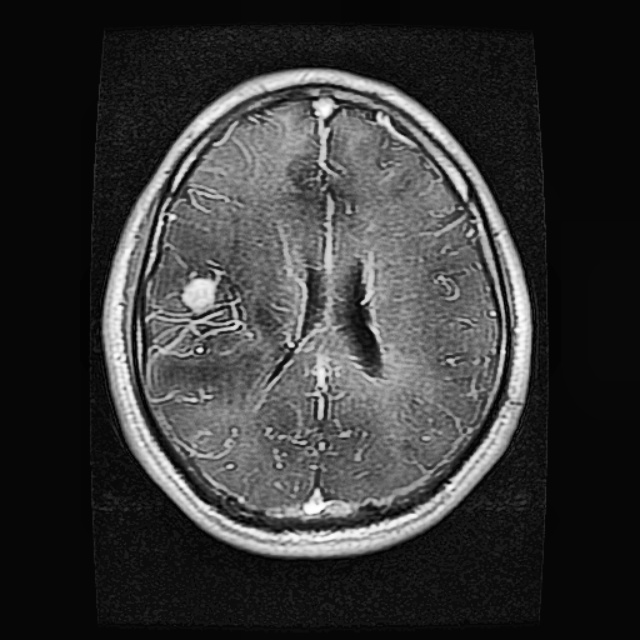Pituitary: (144, 255, 252, 359)
